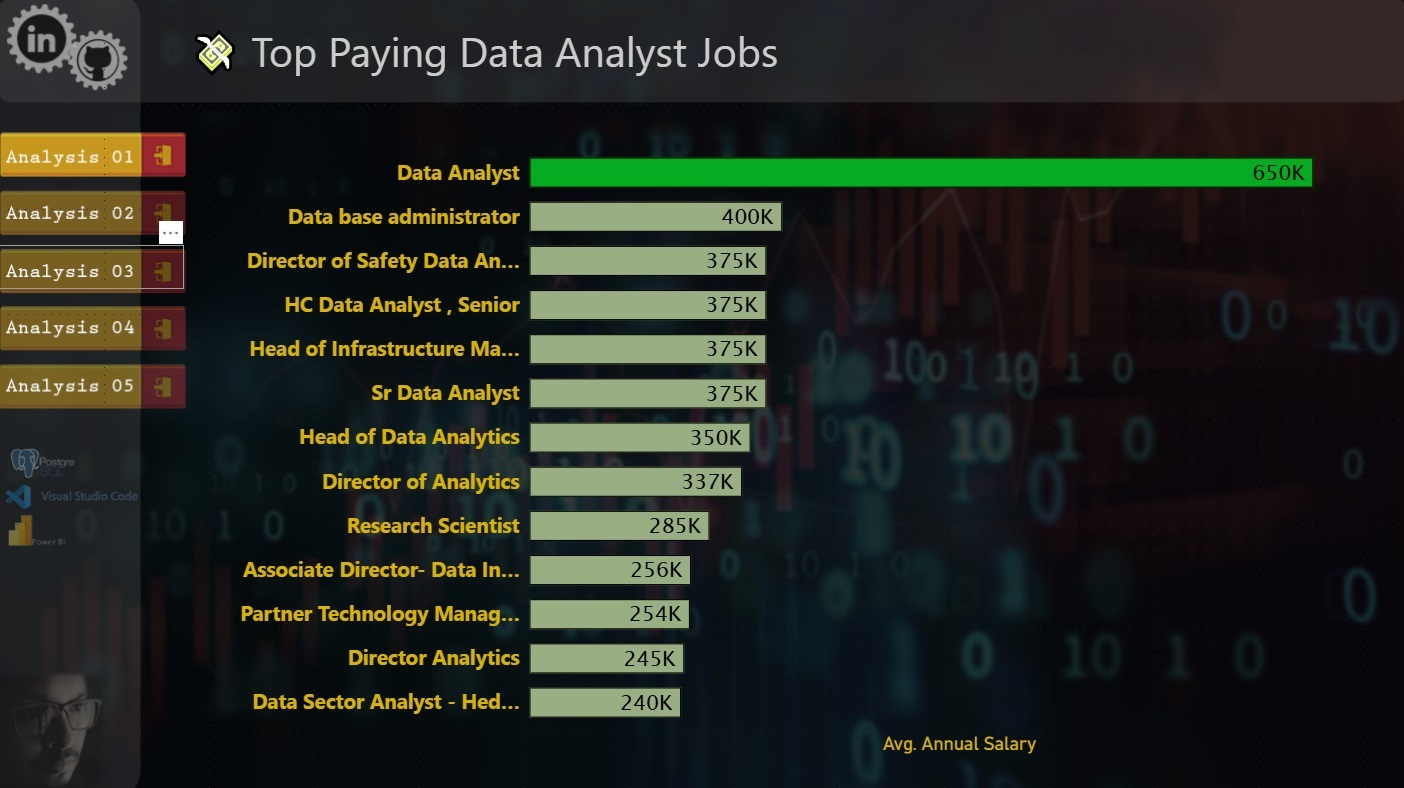

Layout of this report page (visuals, bound fields, positions):
{"tool":"powerbi","page":{"name":"Q1 - Top Paying DA Jobs","canvas":[1280,720],"ordinal":0},"visuals":[{"type":"clusteredBarChart","fields":{"Category":["1_top10_high_salary_jobs (2).job_title"],"Y":["Sum(1_top10_high_salary_jobs (2).annual_salary)"]},"box":[208,120,1056,576],"z":0},{"type":"textbox","box":[168,16,816,80],"z":1000},{"type":"actionButton","box":[0,120,168,40],"z":2000},{"type":"actionButton","box":[0,176,168,40],"z":3000},{"type":"actionButton","box":[0,224,168,40],"z":4000},{"type":"actionButton","box":[0,280,168,40],"z":5000},{"type":"actionButton","box":[0,336,168,40],"z":6000},{"type":"actionButton","box":[16,16,48,40],"z":6003},{"type":"actionButton","box":[72,40,40,32],"z":6004}]}

Visuals, with their boxes on the page's 1280x720 design canvas (x1, y1, x2, y2). These are canvas units, not pixel positions in the 1404x788 screenshot, which may show the page scaled, cropped or inside an application window:
clusteredBarChart - 1_top10_high_salary_jobs (2).job_title x Sum(1_top10_high_salary_jobs (2).annual_salary): <box>208,120,1264,696</box>
textbox: <box>168,16,984,96</box>
actionButton: <box>0,120,168,160</box>
actionButton: <box>0,176,168,216</box>
actionButton: <box>0,224,168,264</box>
actionButton: <box>0,280,168,320</box>
actionButton: <box>0,336,168,376</box>
actionButton: <box>16,16,64,56</box>
actionButton: <box>72,40,112,72</box>
